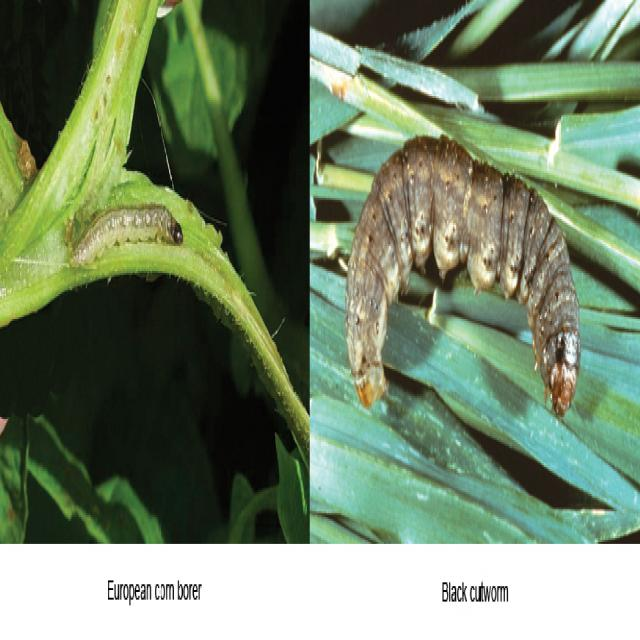cornborer-Larva-: (69, 194, 186, 281)
